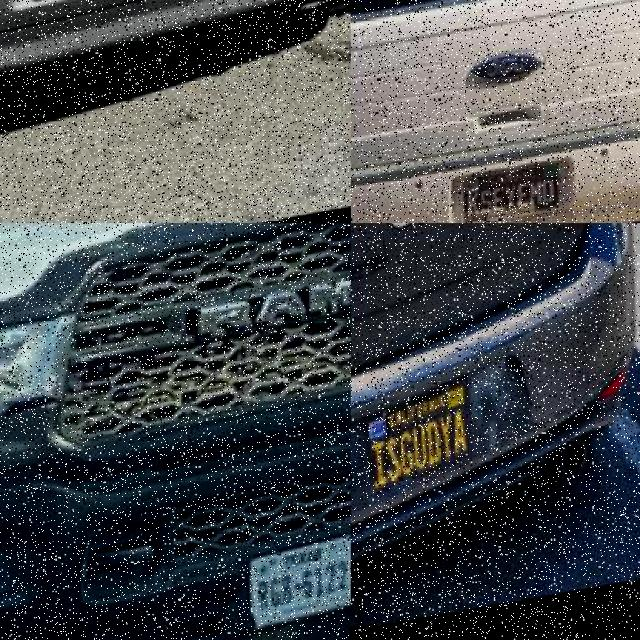licenseplate: (365, 377, 493, 501), (256, 541, 351, 636), (470, 167, 568, 223)
